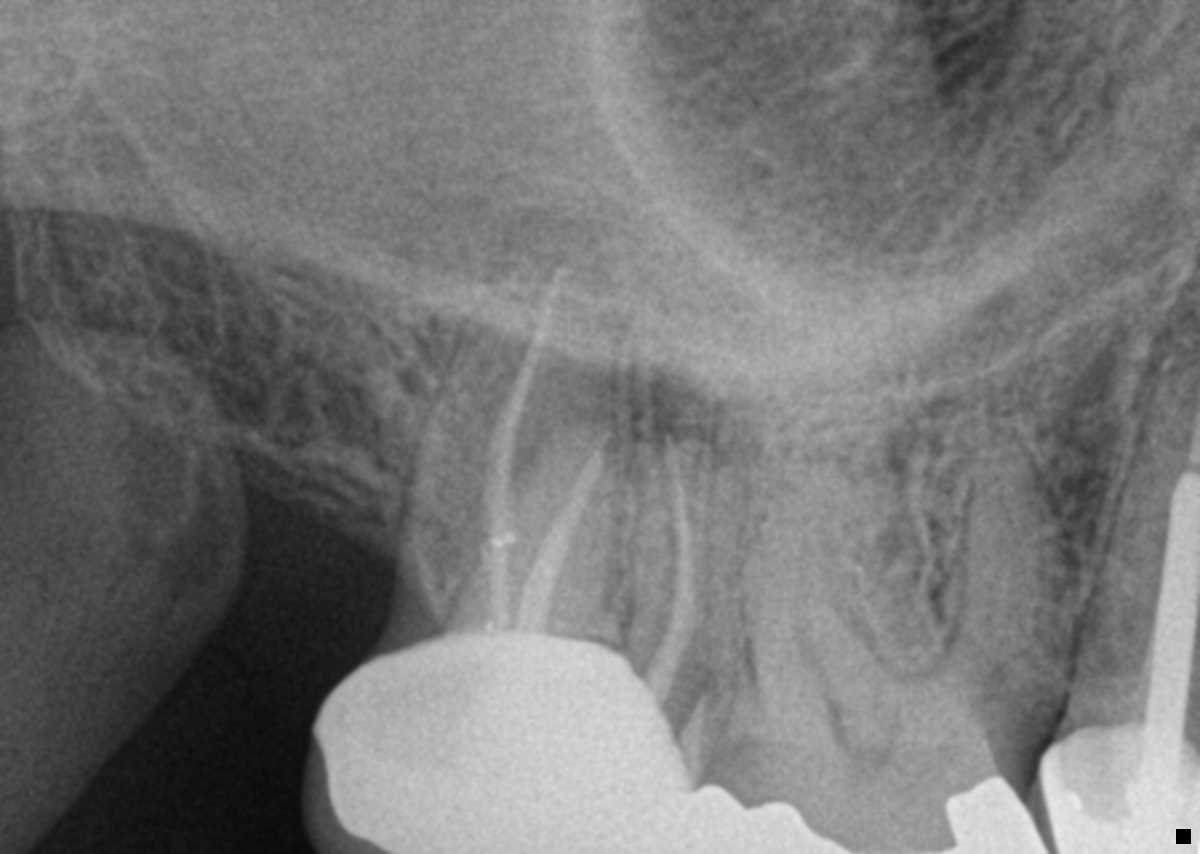Apical Lesion: (614, 350, 771, 486), (500, 188, 644, 290)
Distal Canal: (790, 495, 831, 693)
Distal Root: (447, 420, 624, 643), (743, 455, 889, 701)
Main Root: (1062, 317, 1200, 723)
Mesial Root: (925, 427, 1087, 737), (624, 442, 740, 731)
Palatal Root: (705, 263, 958, 714), (384, 242, 621, 656)
Root Canal Filling: (484, 263, 568, 628), (518, 455, 605, 635), (640, 437, 698, 700)
